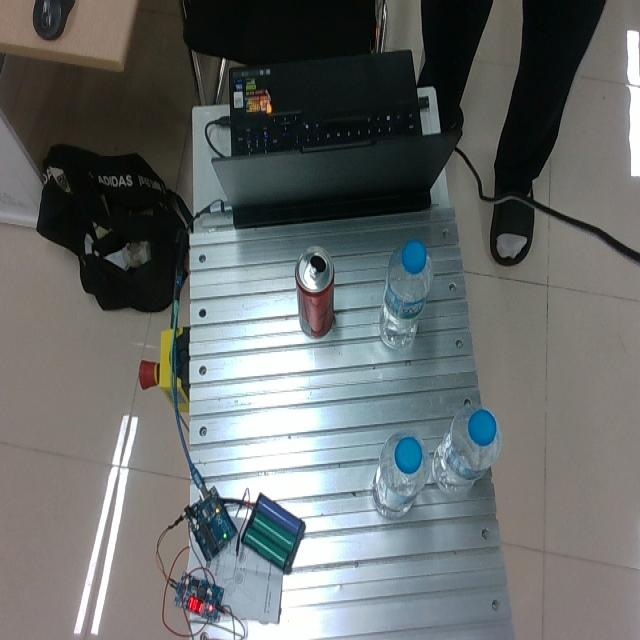coca: (294, 244, 335, 337)
lavie: (430, 403, 501, 493), (378, 241, 433, 351), (370, 430, 429, 518)
